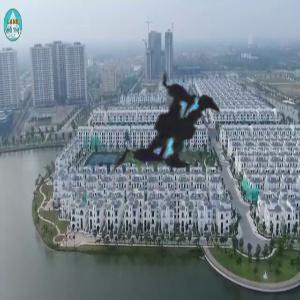drone: (53, 10, 284, 241)
